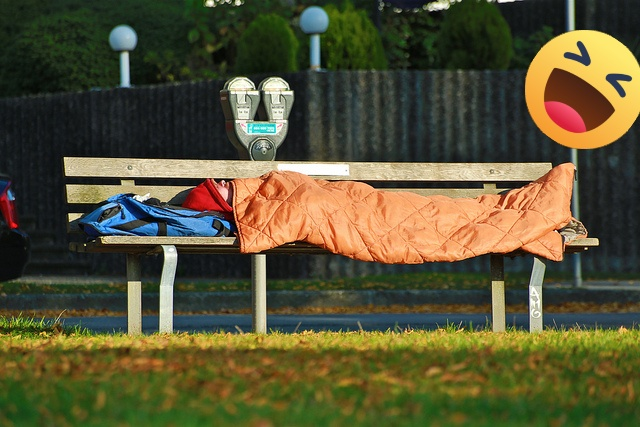haha: (525, 30, 640, 149)
